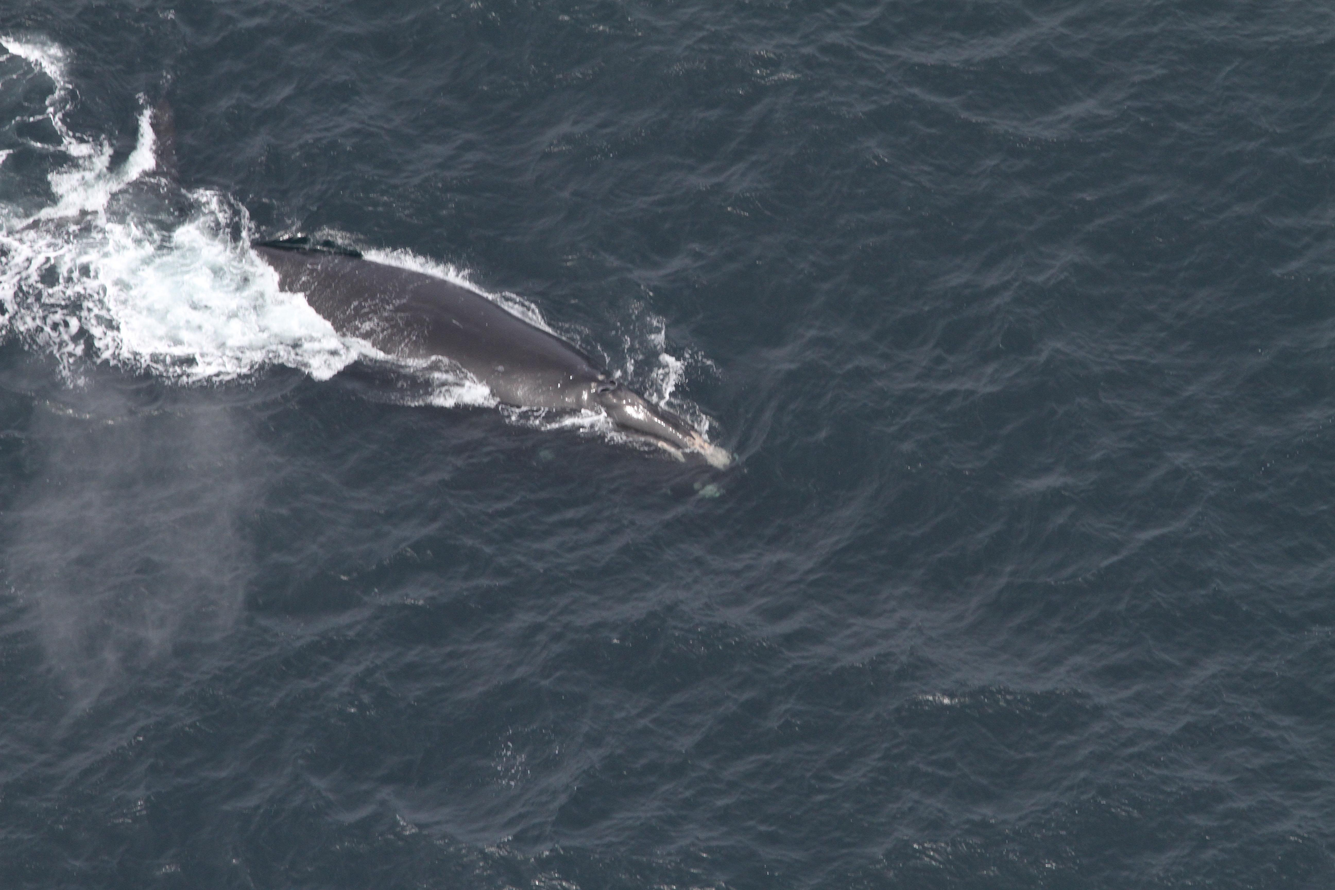whale: (2, 66, 756, 510)
